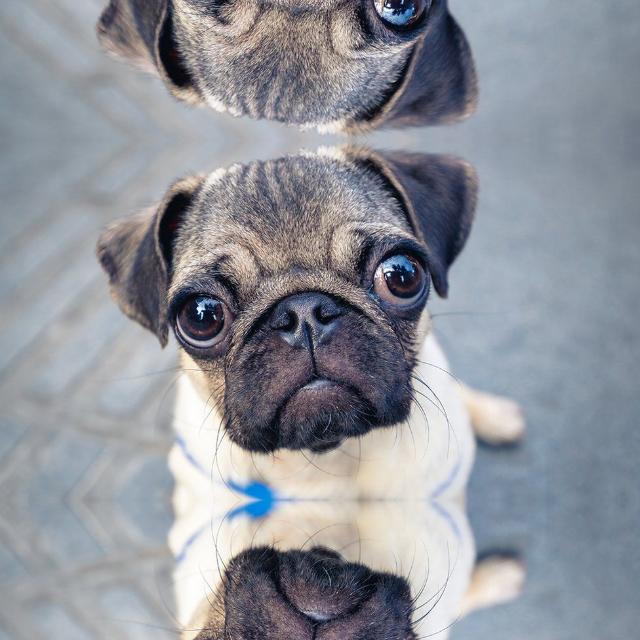dog: (92, 150, 536, 490), (92, 0, 536, 130), (92, 510, 536, 640)
